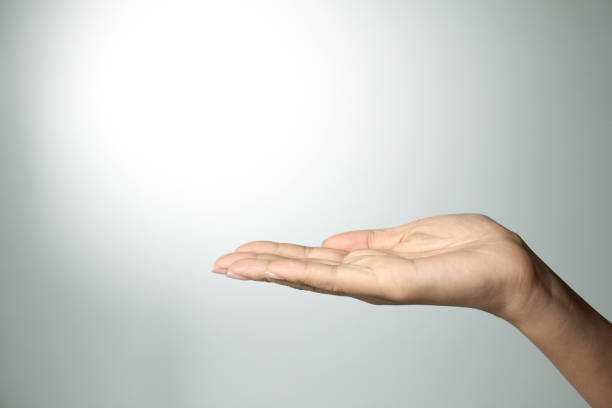hand: (179, 187, 571, 354)
